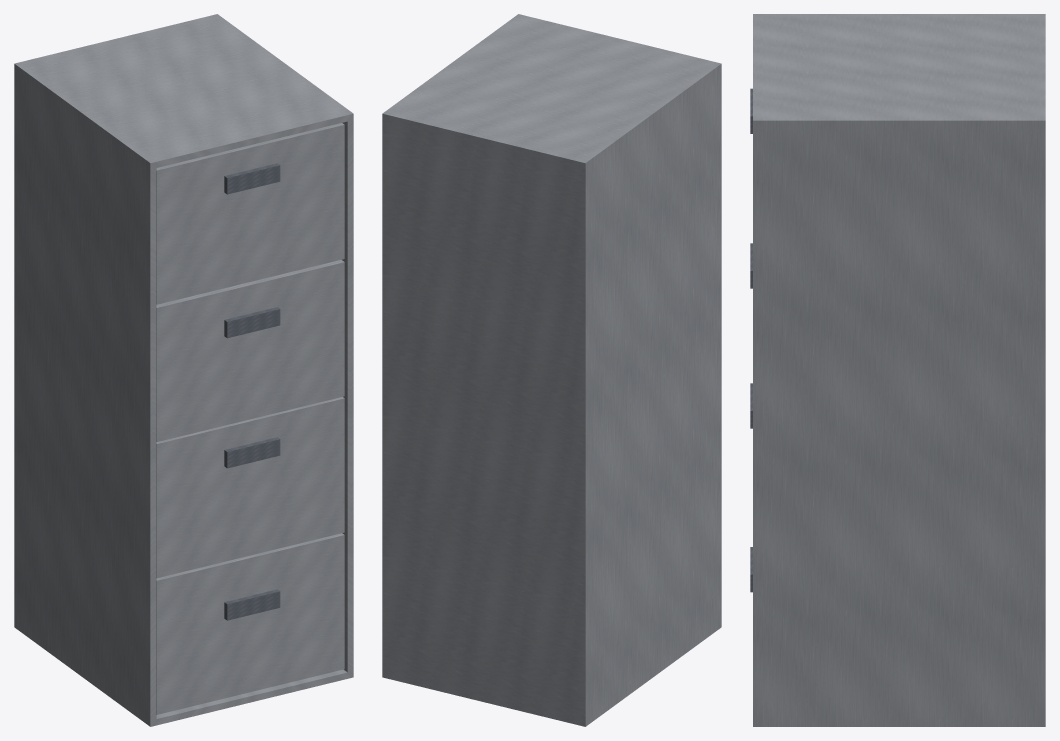
File: Filing cabinet.FBX
3 renders of one model, left to right at view 1: azimuth 30°, elevation 25°; view 2: azimuth 150°, elevation 25°; view 3: azimuth 270°, elevation 25°, orthographic. The views are drawn at different scales.
Visible parts, largest first — view 1: Filing cabinet; view 2: Filing cabinet; view 3: Filing cabinet.
Part boxes in pixels (<box>): Filing cabinet: <box>14,14,353,726</box>; Filing cabinet: <box>382,14,721,726</box>; Filing cabinet: <box>750,14,1045,726</box>.
Size of the model in its own units: 58.76 by 156 by 68.82.
Materials: 2 (2 with a texture image).
